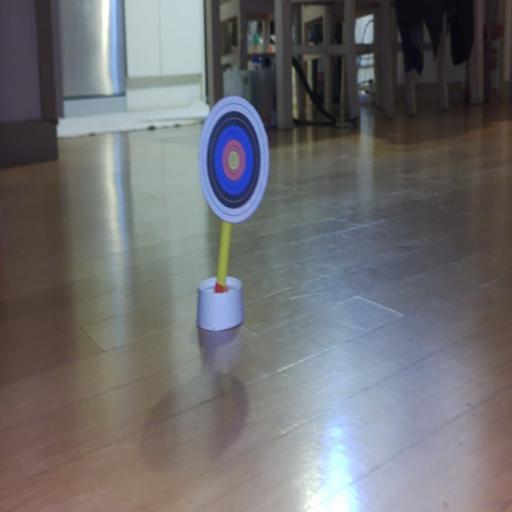target: (200, 97, 269, 222)
